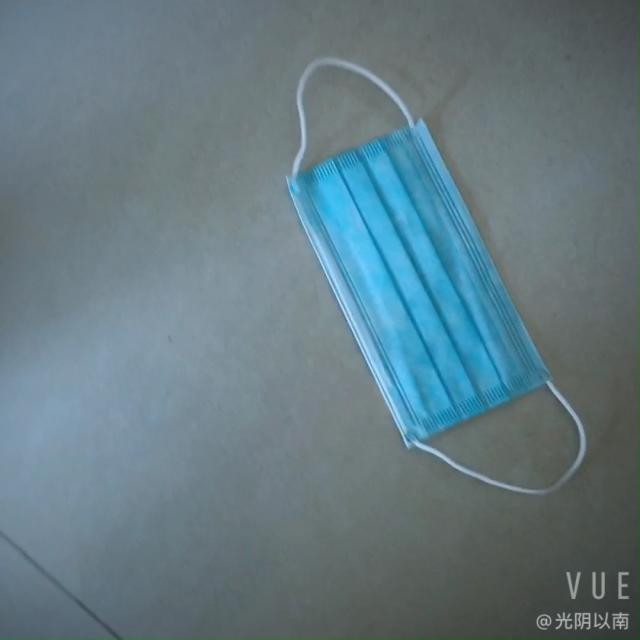non-organic waste: (283, 124, 556, 459)
